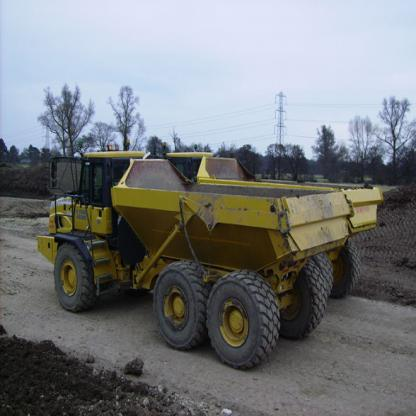dump_truck: (38, 121, 341, 355)
